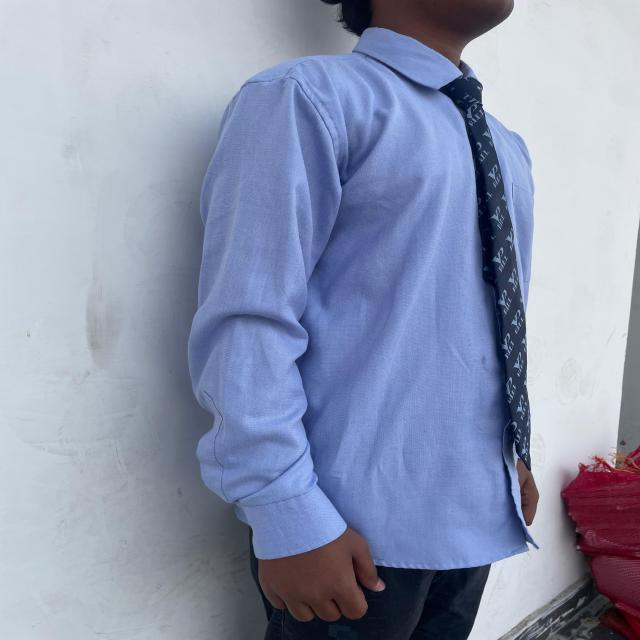Tie: (438, 75, 532, 472)
uniform: (187, 27, 538, 638)
